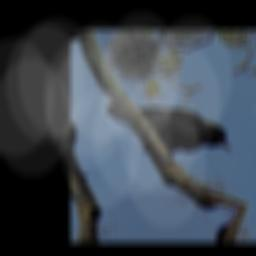Crow: (103, 69, 234, 187)
